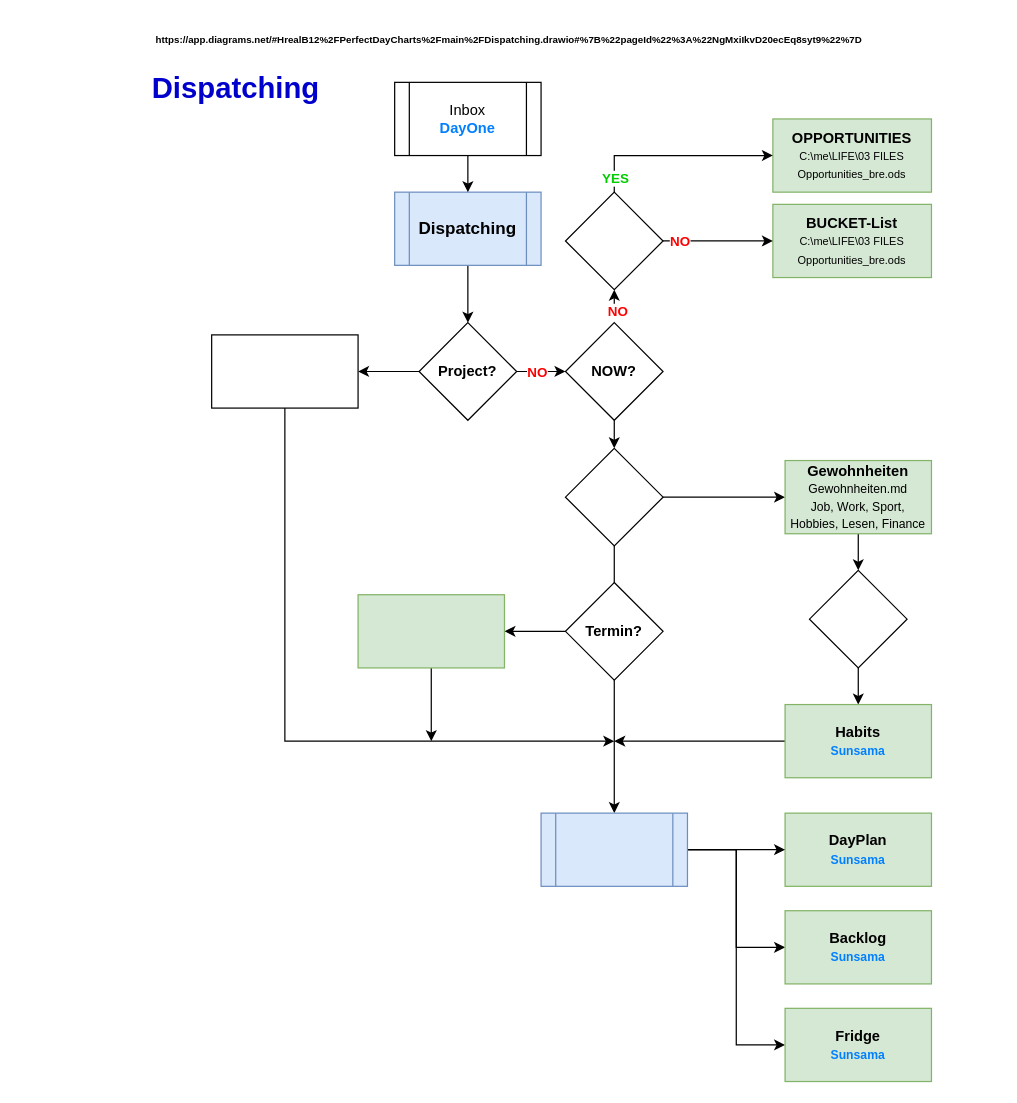
Image size: 1017x1103. Some labels were removed from this diagram. The shapes that lost their labels are listed below. From the top down, each one's centre as x and y in pixels, then its label:
At point 613,240: "BIZ?".
At point 284,371: "ProjectLists ClickUp".
At point 613,496: "Habit?".
At point 430,631: "Kalender Google".
At point 857,618: "aktiv?".
At point 613,849: "DayPlanning".
